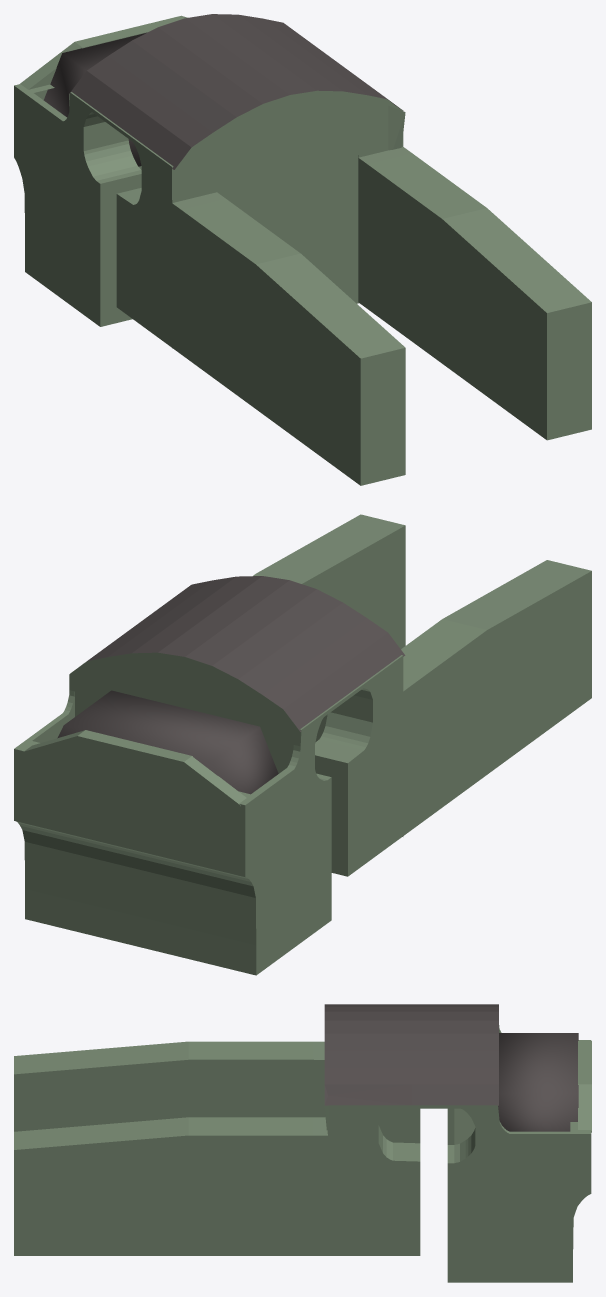
File: gwr-side-tanks-and-cab.dae
The picture shows the model from 3 angles, top to bottom: view 1: azimuth 30°, elevation 25°; view 2: azimuth 150°, elevation 25°; view 3: azimuth 270°, elevation 25°; orthographic projection. The views are drawn at different scales.
Visible parts, largest first — view 1: Cube_009, Tube, Cube_015, Cube_014; view 2: Cube_009, Tube, Cube_015, Cube_014; view 3: Cube_009, Tube, Cube_015, Cube_014.
Boxes of the visible parts, box(x1,y1,x2,y2) form: Cube_009: box(14, 84, 591, 485); Tube: box(69, 14, 405, 348); Cube_015: box(43, 32, 146, 166); Cube_014: box(20, 15, 187, 89); Cube_009: box(14, 514, 591, 975); Tube: box(69, 576, 405, 836); Cube_015: box(57, 690, 278, 794); Cube_014: box(22, 730, 246, 806); Cube_009: box(14, 1025, 591, 1282); Tube: box(324, 1004, 498, 1133); Cube_015: box(498, 1033, 578, 1131); Cube_014: box(578, 1041, 591, 1132).
Bounding box in the file's own units: 1.87 × 4.87 × 2.
